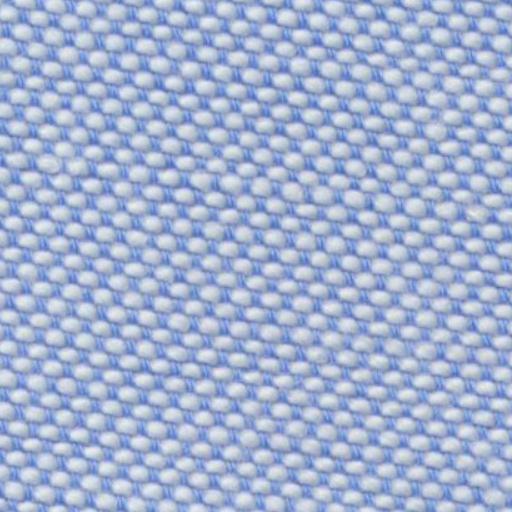TuoSha: (28, 122, 488, 242)
